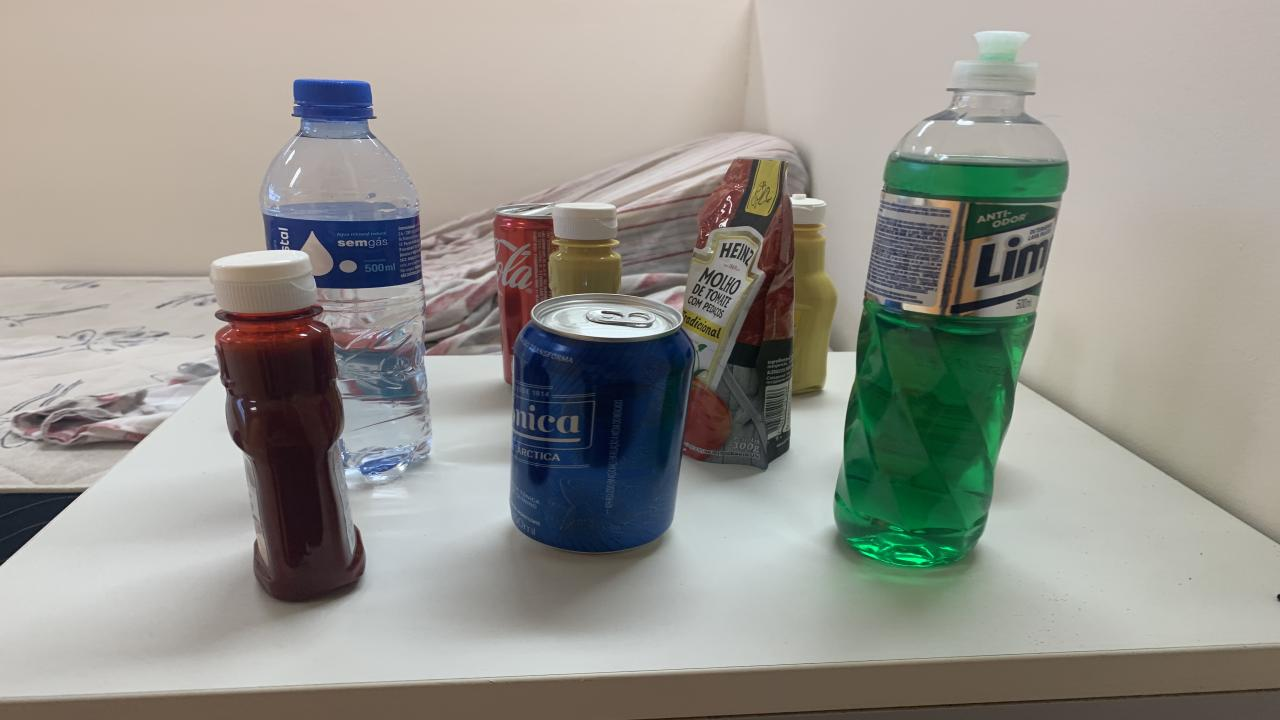Coke-Drinks: (492, 202, 555, 382)
Detergent-Cleanup_Items: (835, 32, 1068, 566)
Ketchup-Pantry_Items: (210, 249, 365, 602)
Mustard-Pantry_Items: (790, 195, 838, 394), (548, 202, 622, 296)
Tomato_Sauce-Pantry_Items: (682, 158, 792, 469)
Tonic-Drinks: (510, 294, 692, 553)
Water_Bottle-Drinks: (260, 79, 432, 482)
